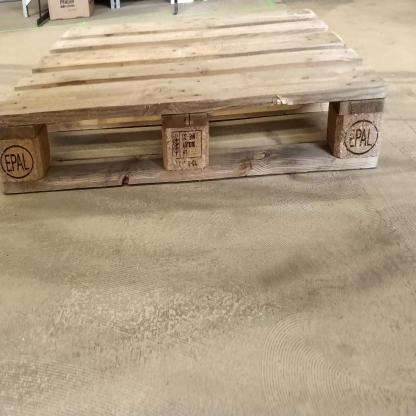BoxFace: (0, 2, 392, 201)
